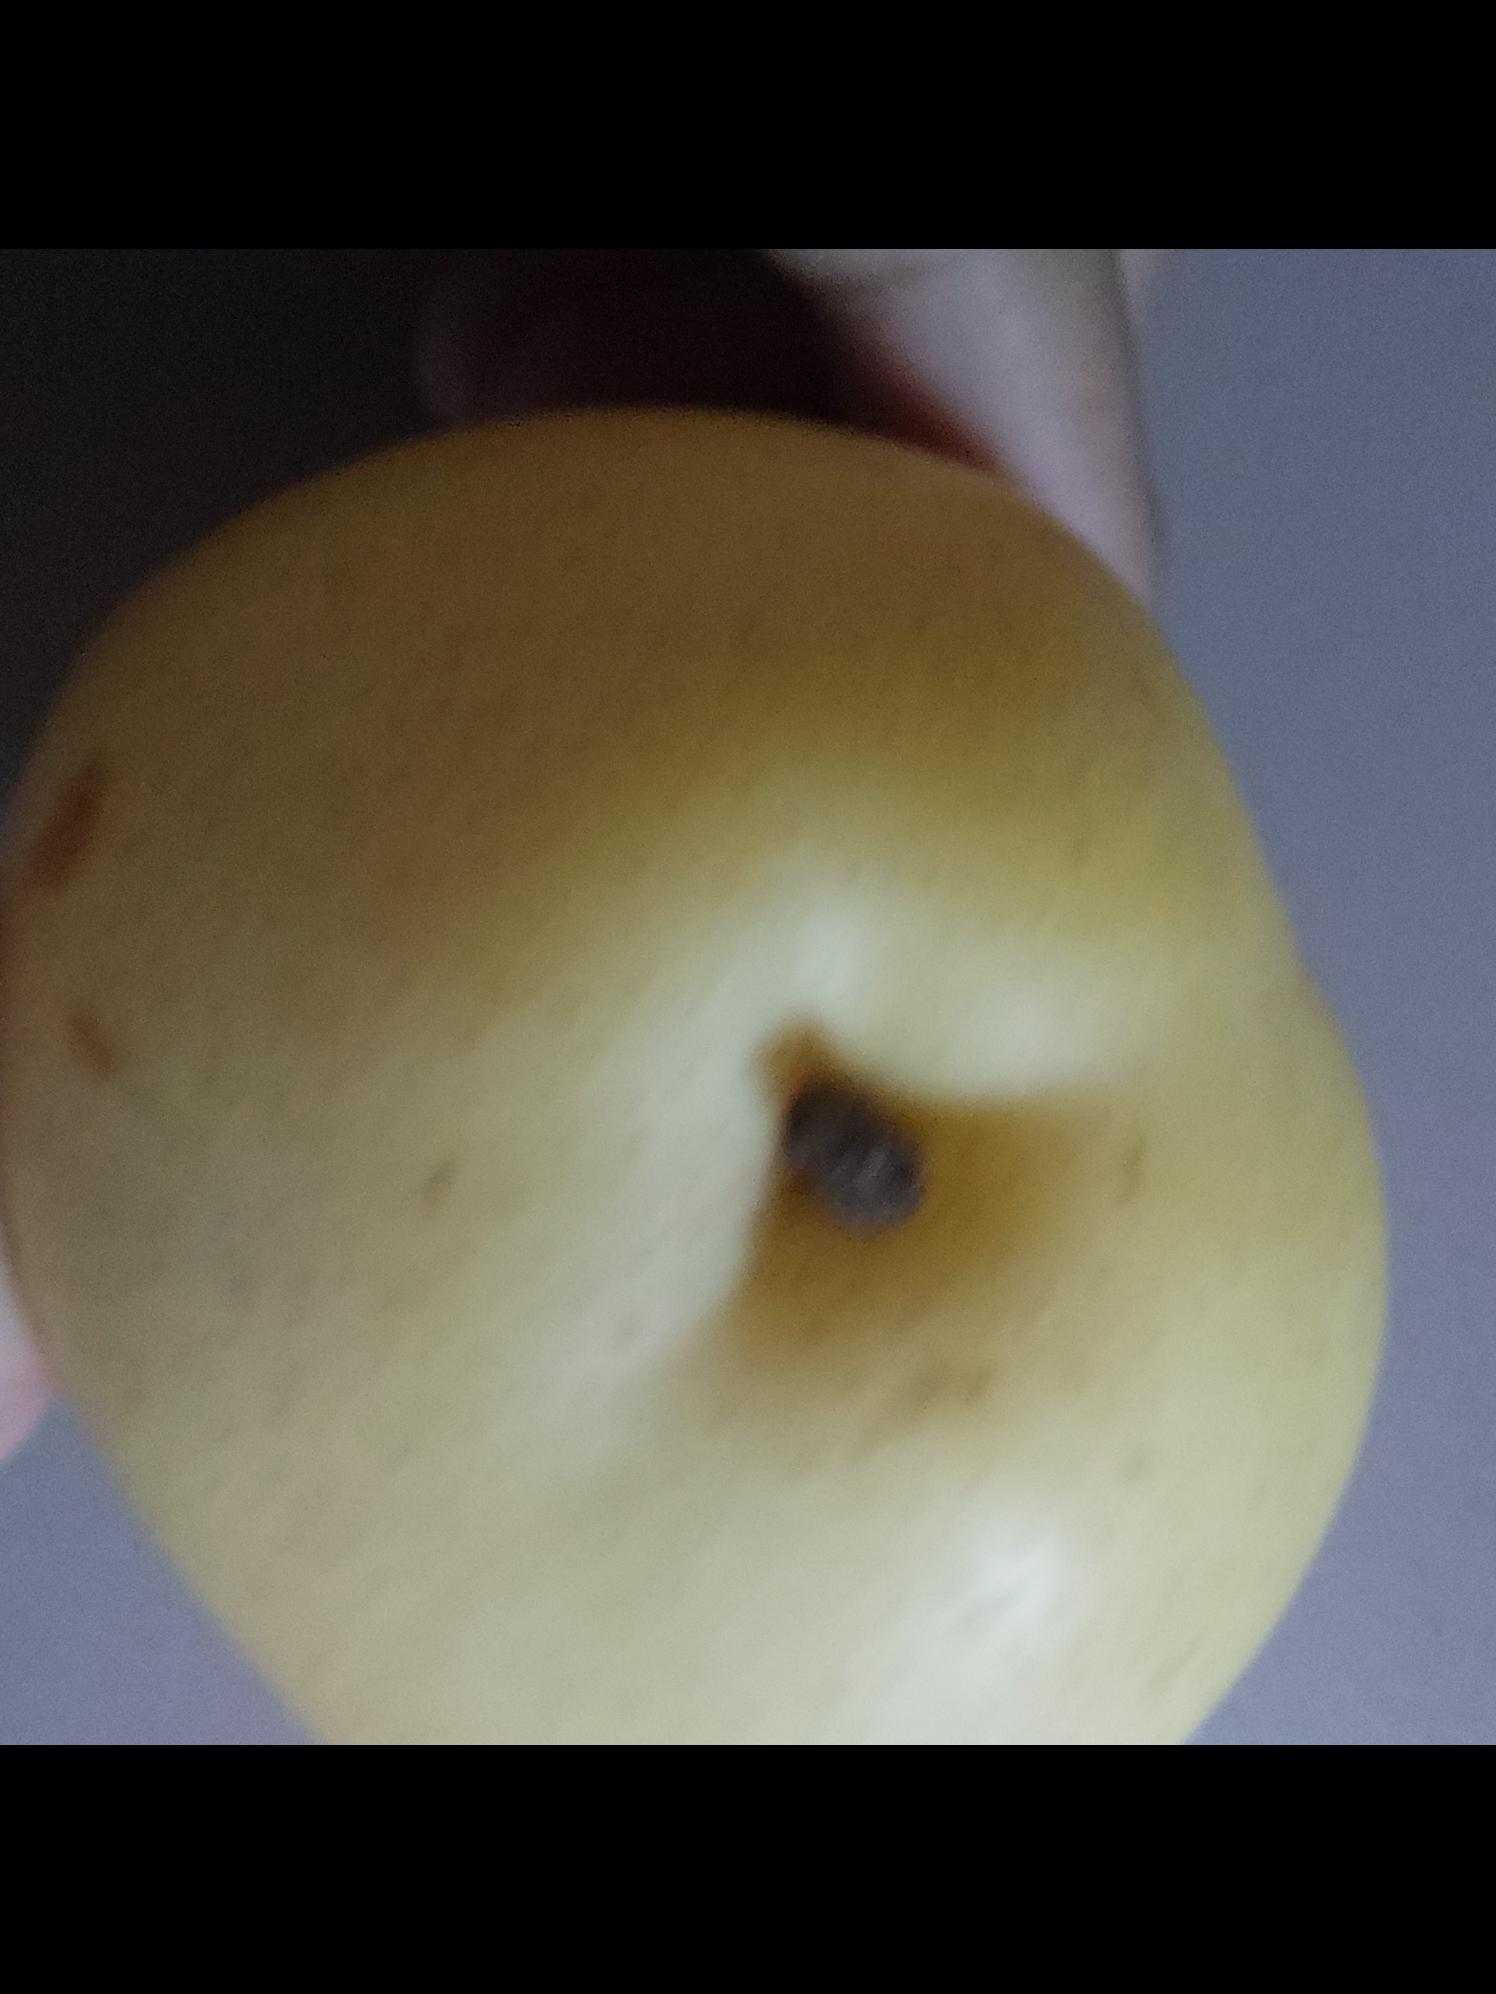Good Pear: (0, 413, 1381, 1746)
